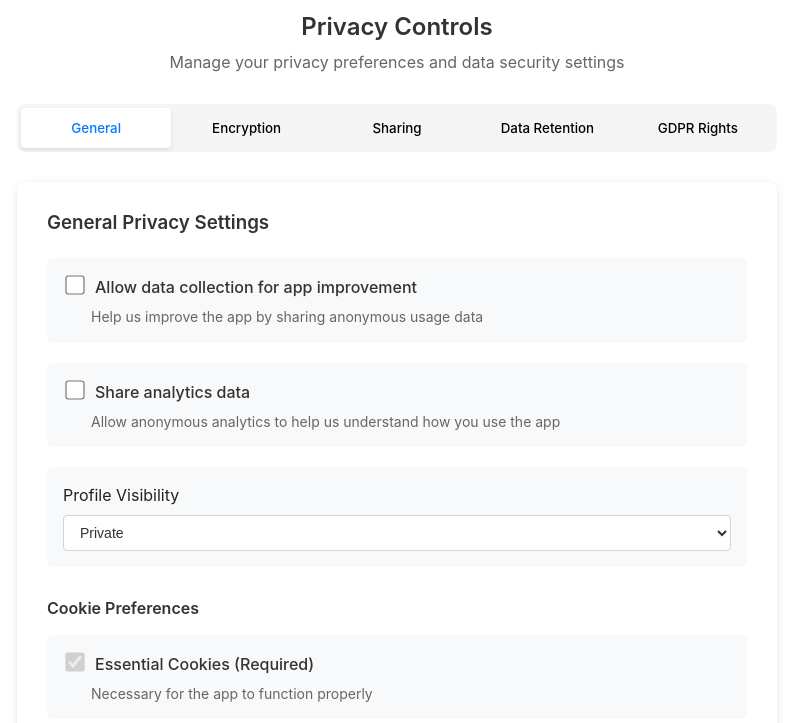
Scenario: PrivacyControlsComponent › should switch between tabs
# Click on Encryption tab
Step 1. Click the button "Encryption" → (247, 128), box [171,108,322,148]
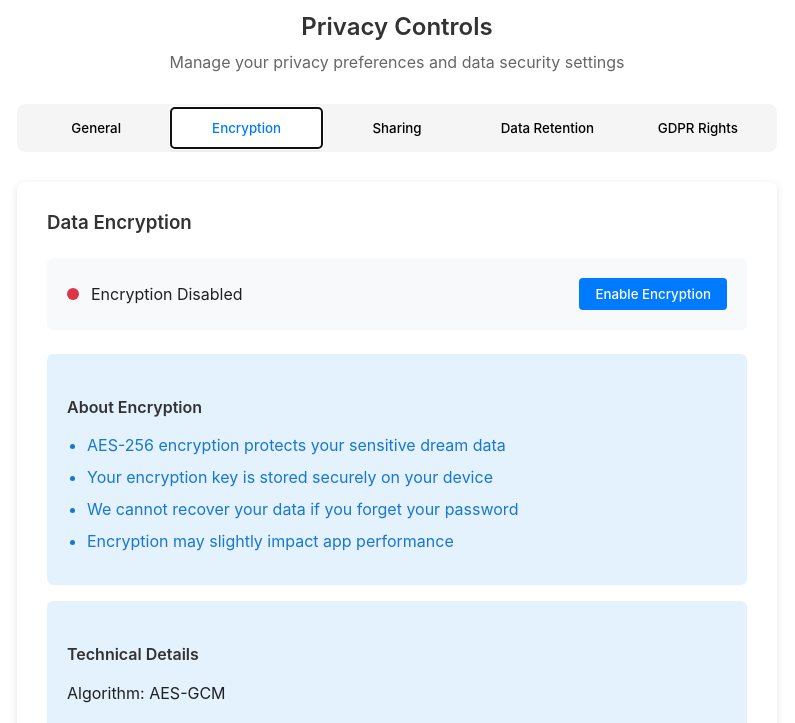
Now the heading "Data Encryption" is shown, box [47,211,192,234]
# Click on GDPR tab
Step 2. Click the button "GDPR Rights" → (698, 128), box [623,108,773,148]
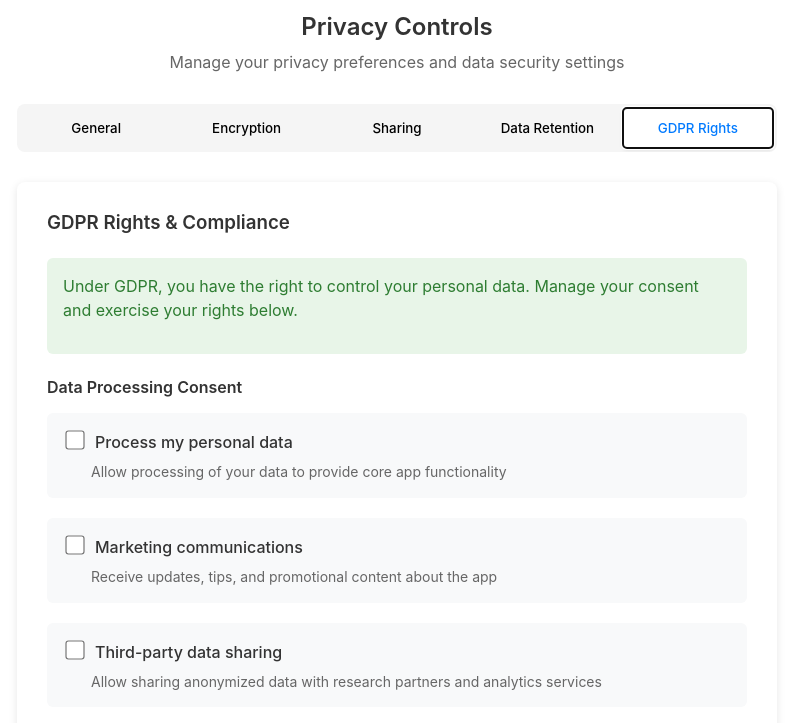
Now the heading "GDPR Rights & Compliance" is shown, box [47,211,290,234]
